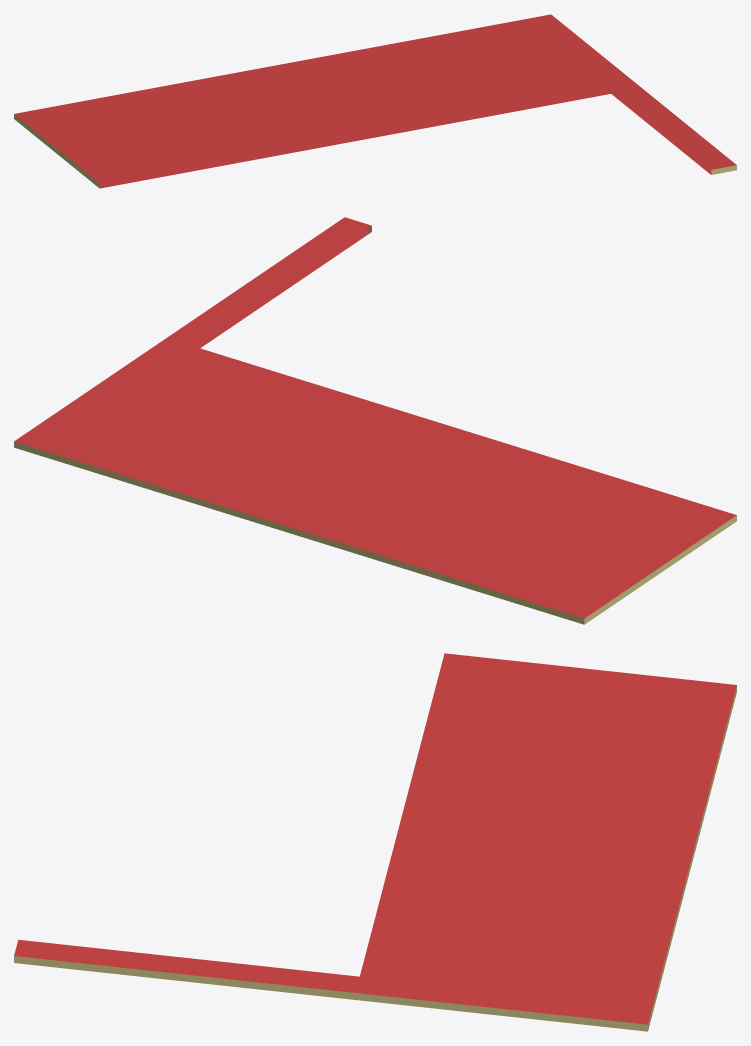
3 views of the same model, one above another, from view 1: azimuth 30°, elevation 25°; view 2: azimuth 150°, elevation 25°; view 3: azimuth 270°, elevation 25° (orthographic). The views are drawn at different scales.
Bounding box in the file's own units: 10.77 × 9.31 × 0.654.
